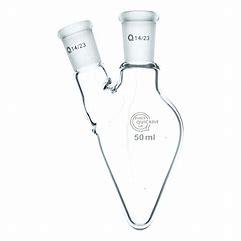Pear shaped flask: (51, 11, 182, 236)
